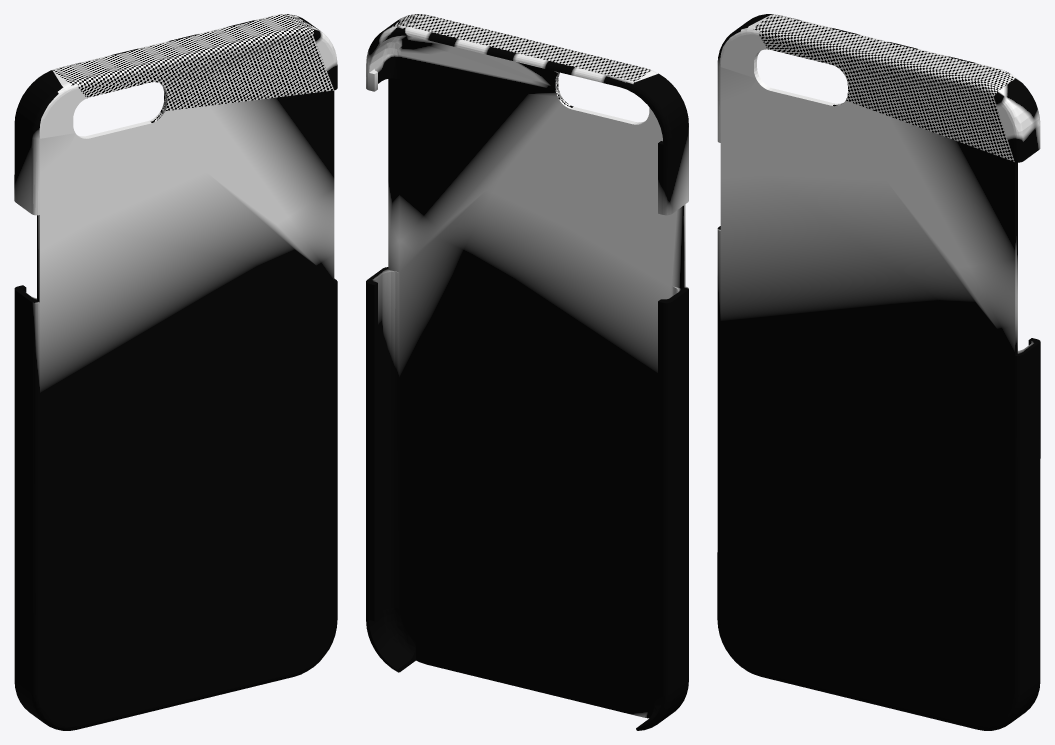
File: iphone.obj
3 renders of one model, left to right at view 1: azimuth 30°, elevation 25°; view 2: azimuth 150°, elevation 25°; view 3: azimuth 330°, elevation 25°, orthographic.
Size of the model in its own units: 77.8 by 158 by 9.89.
